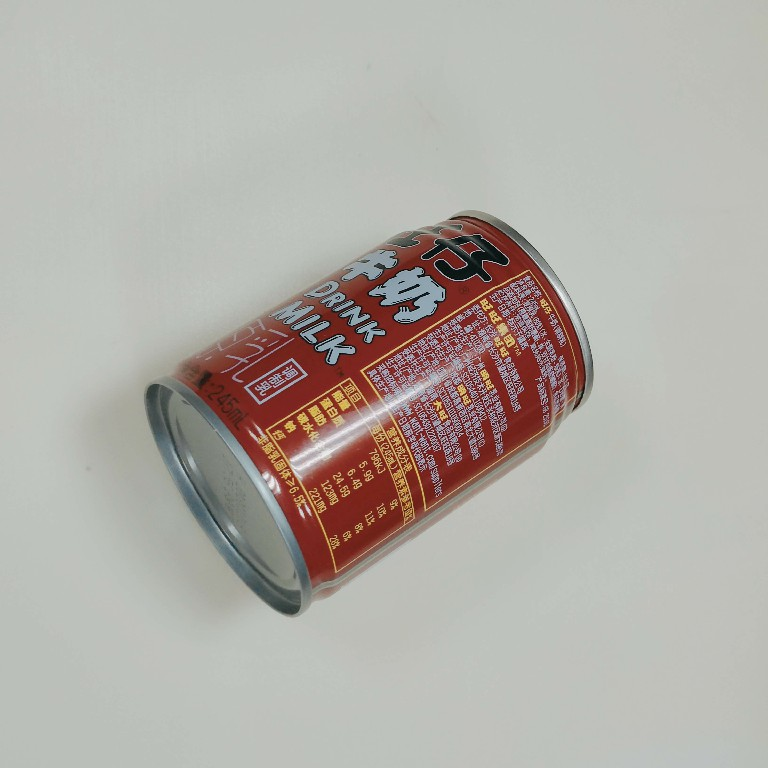can: (136, 203, 603, 620)
